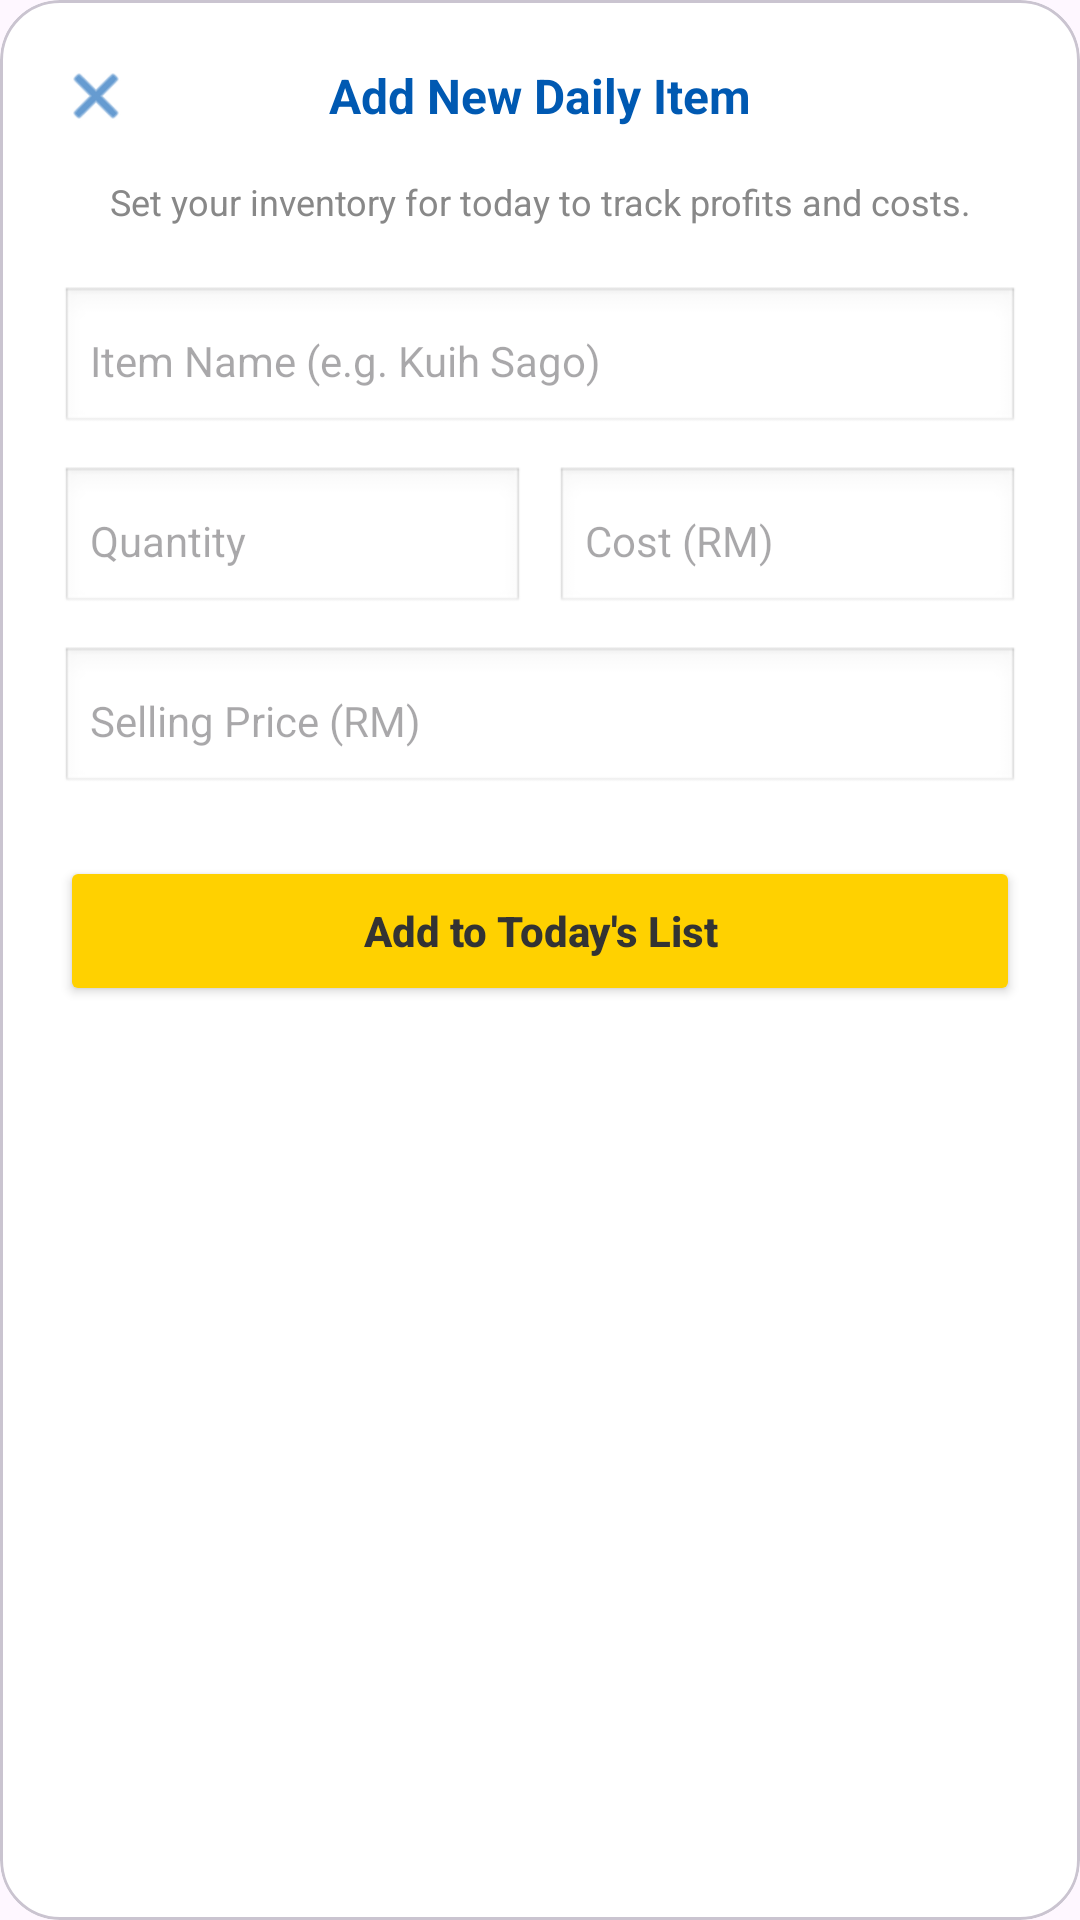

Screen size 1080 × 1920. Icon name, then its box in pixels as rect(x1, y1, x2, y2):
close clear cancel: rect(73, 73, 119, 119)
